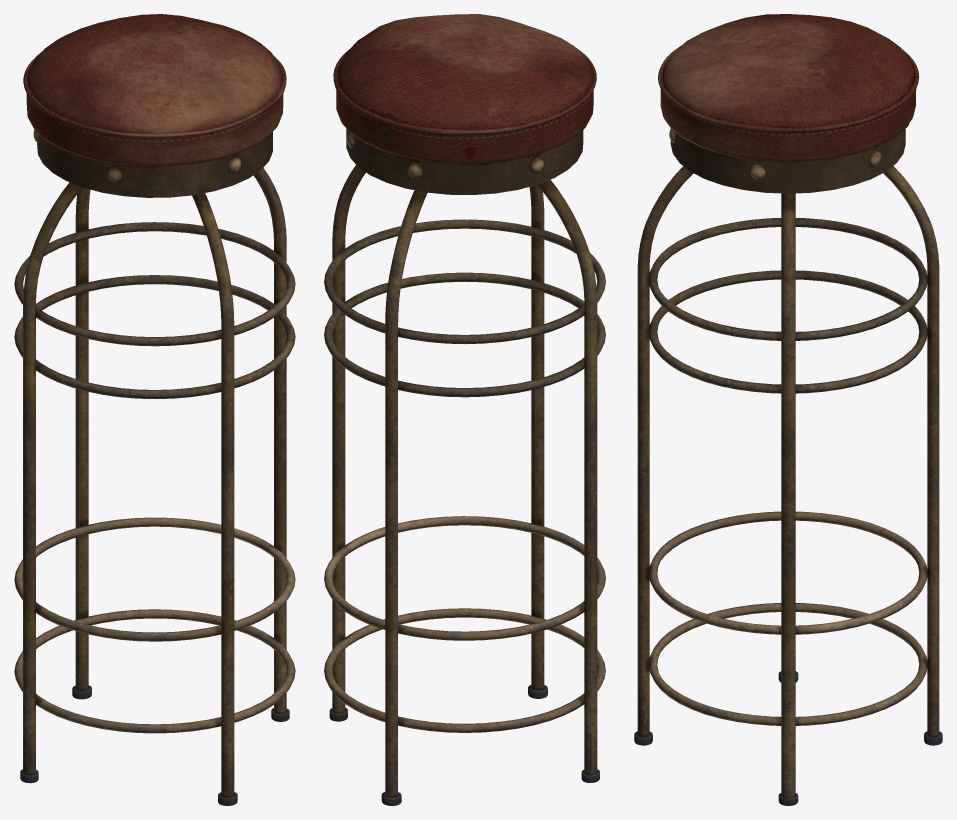
Rendered from metal_stool_01_1k.fbx.
3 renders of one model, left to right at view 1: azimuth 30°, elevation 25°; view 2: azimuth 150°, elevation 25°; view 3: azimuth 270°, elevation 25°, orthographic.
Visible parts, largest first — view 1: metal_stool_01; view 2: metal_stool_01; view 3: metal_stool_01.
Part boxes in pixels (<box>): metal_stool_01: <box>14,14,295,805</box>; metal_stool_01: <box>324,14,605,805</box>; metal_stool_01: <box>634,14,942,805</box>.
Bounding box in the file's own units: 35.2 × 88.28 × 35.46.
